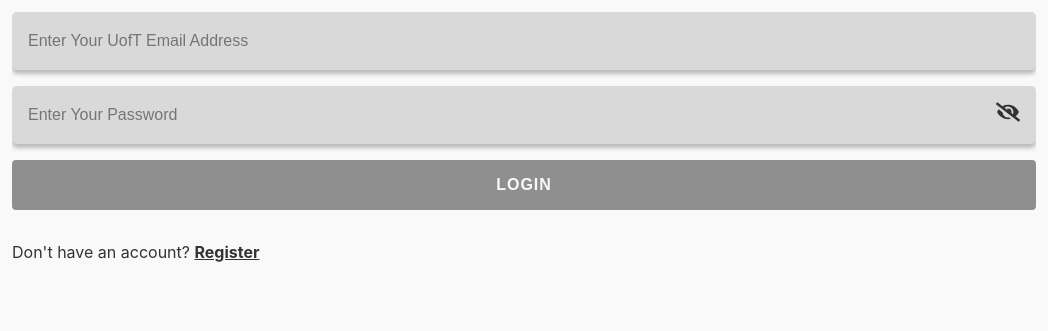
LoginForm › should display error message for invalid password
In the field with placeholder "Enter Your UofT Email Address": (524, 41) [12,12,1036,70], type "test@mail.utoronto.ca"
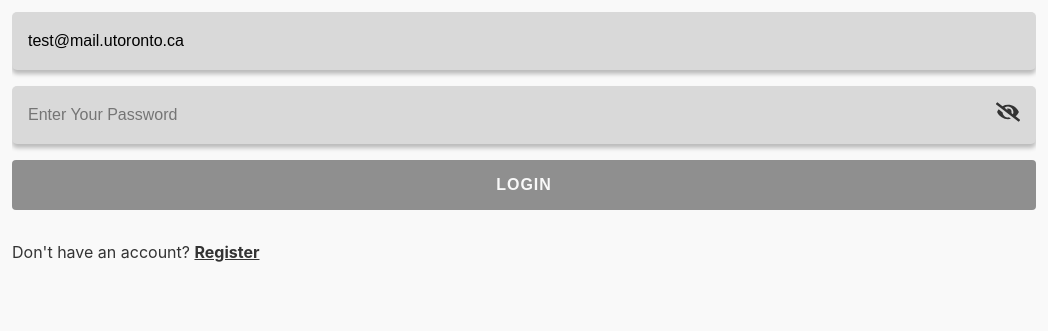
In the password field with placeholder "Enter Your Password": (524, 115) [12,86,1036,144], type "short"
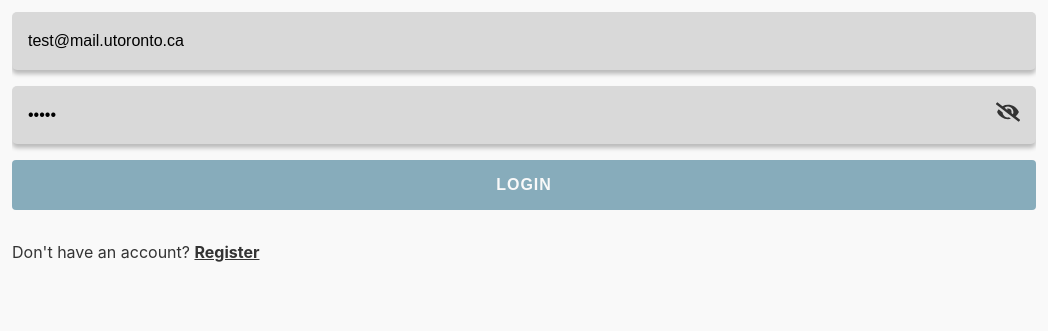
Click the button "Login": (524, 185) [12,160,1036,210]
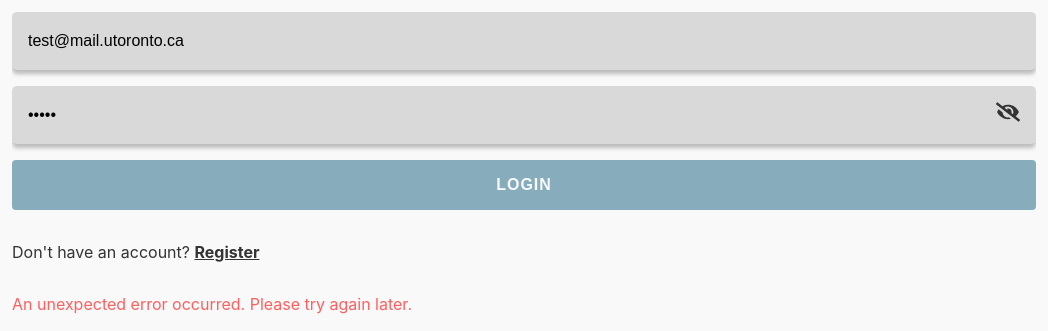
Result: the text "This email and password combination doesn't exist in our records. Please try again." is shown at [12,294,412,314]
